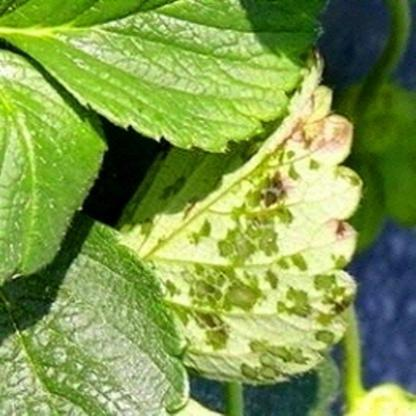Strawberry_Angular_LeafSpot: (111, 47, 367, 387)
